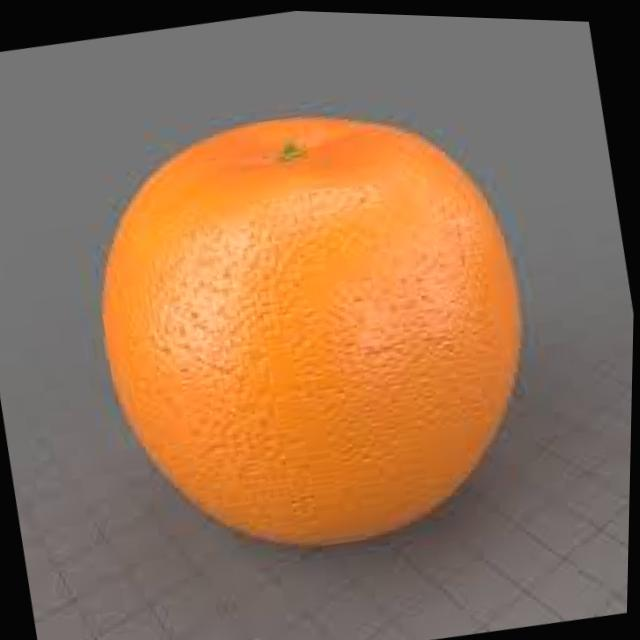orange: (61, 66, 566, 587)
